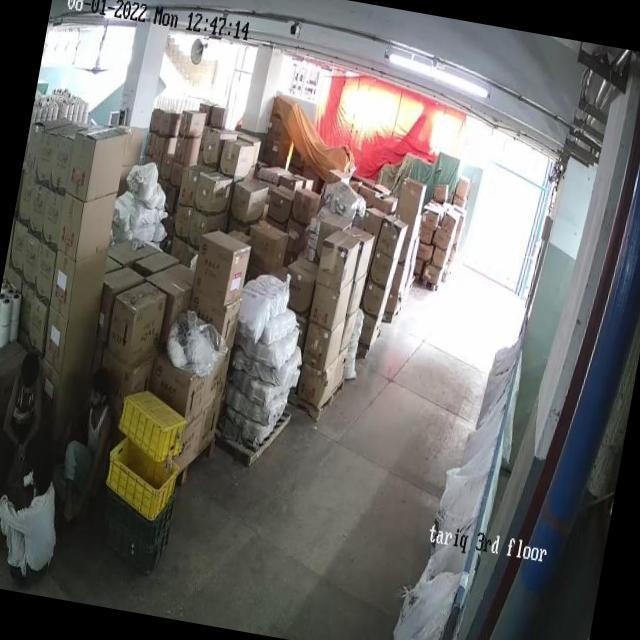person: (56, 383, 120, 508), (0, 462, 70, 572), (0, 353, 53, 461)
